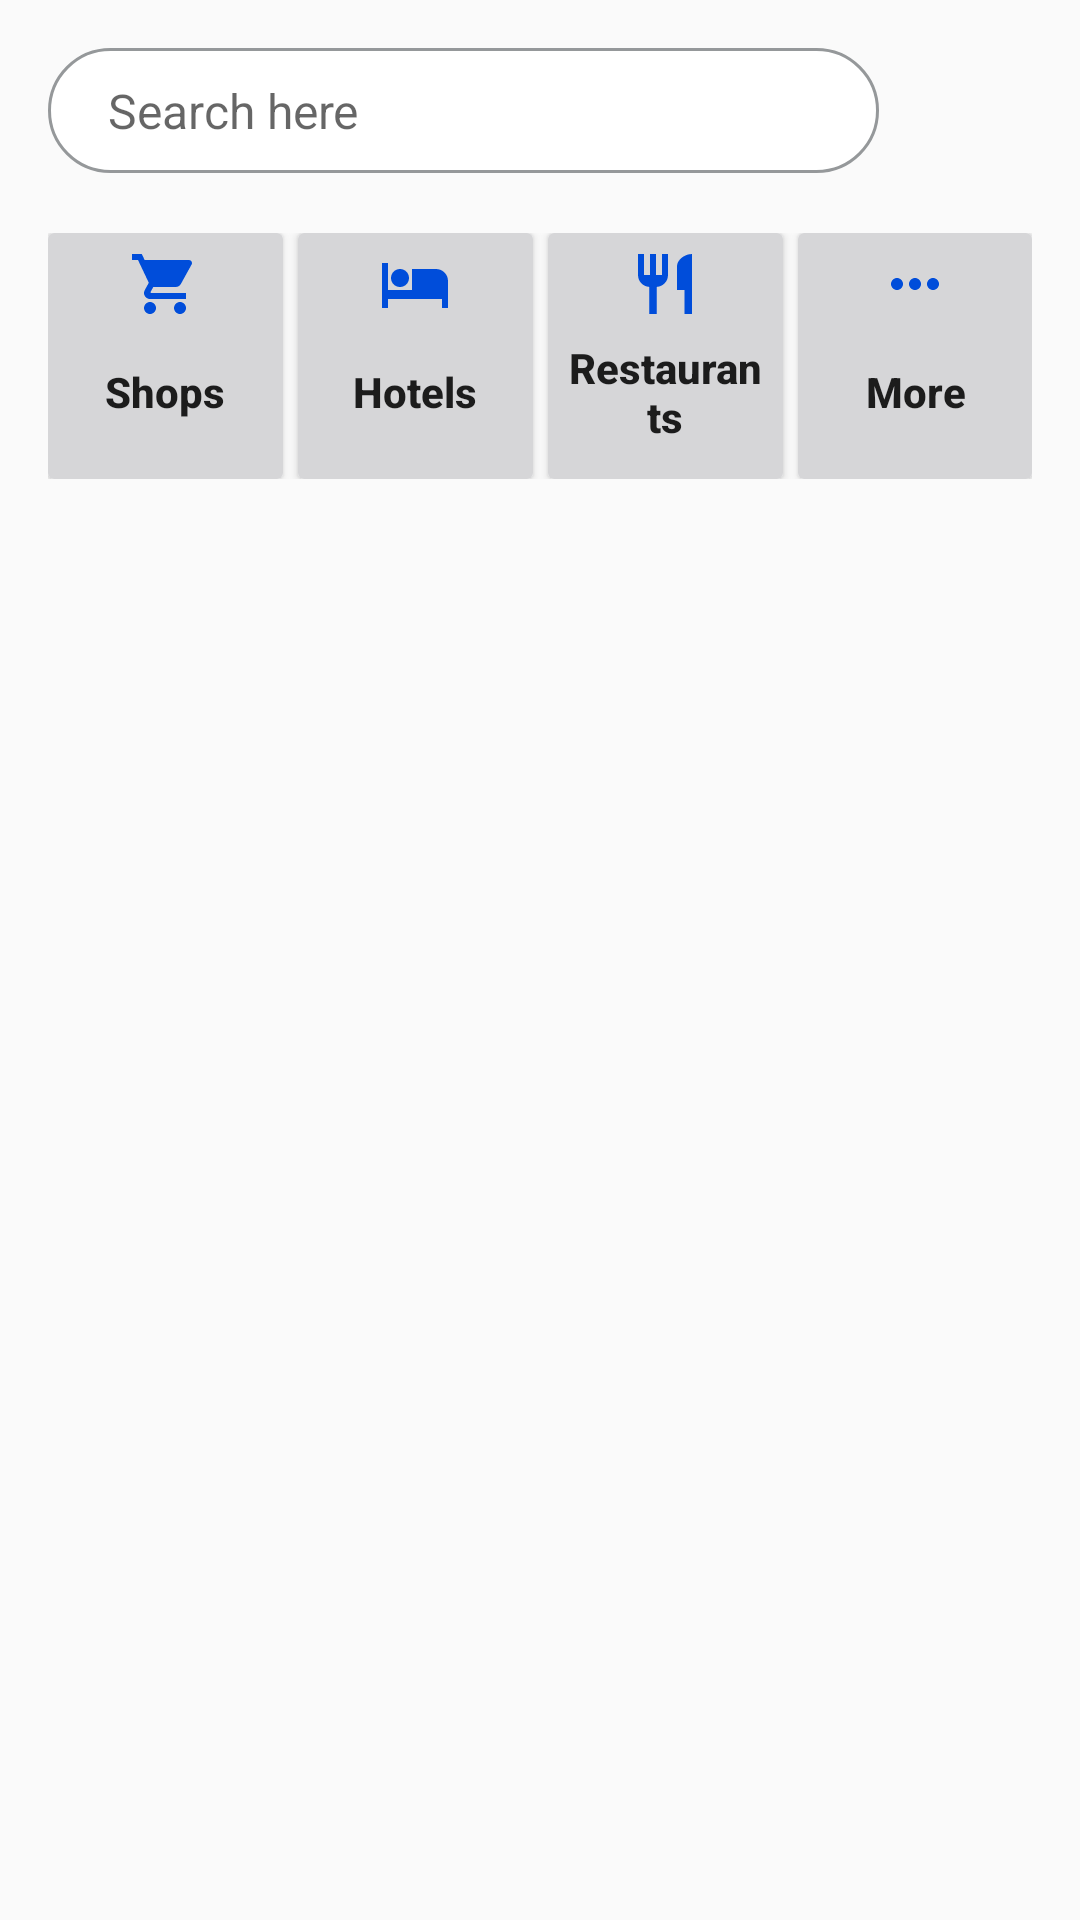

Locate icon controls on the screen. Image size 1080 x 1920, boxes as (x1, y1, x2, y2).
shopping cart: (132, 254, 192, 314)
